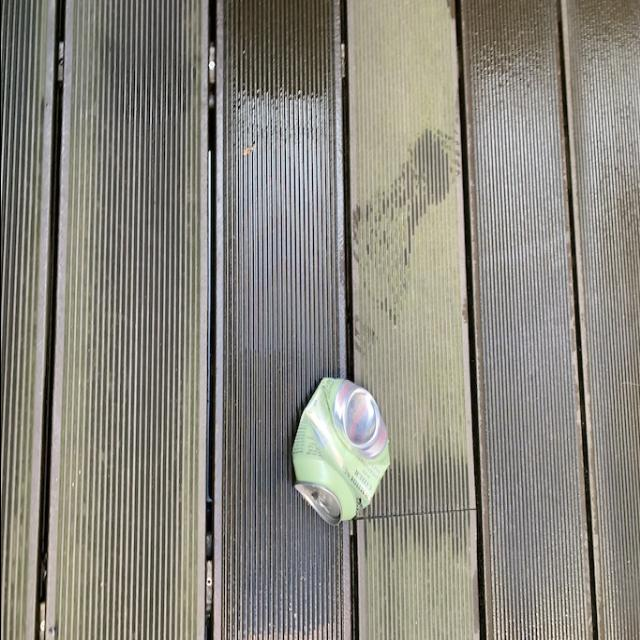Aluminum Can: (294, 376, 389, 526)
